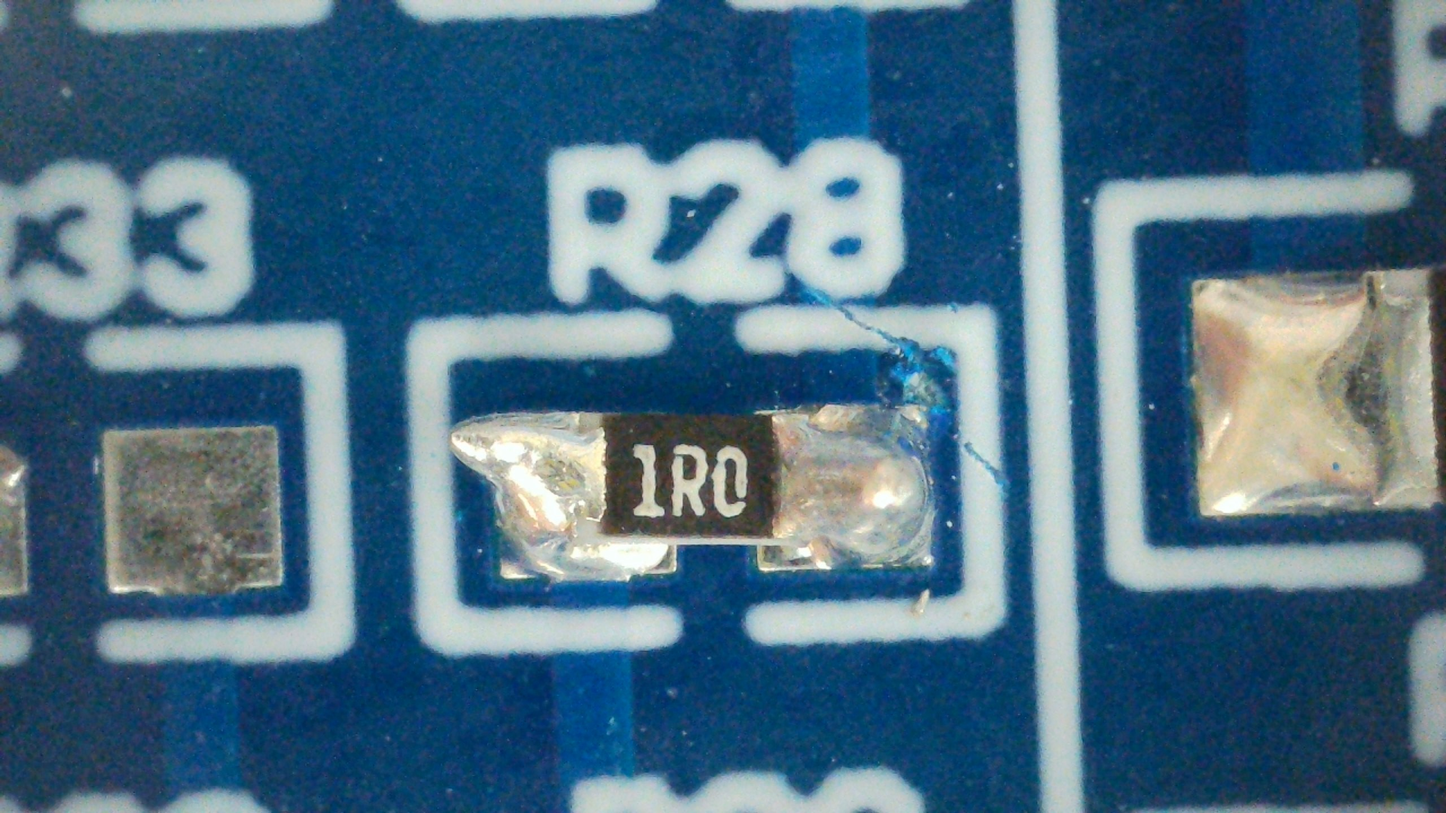OK: (448, 406, 934, 584)
